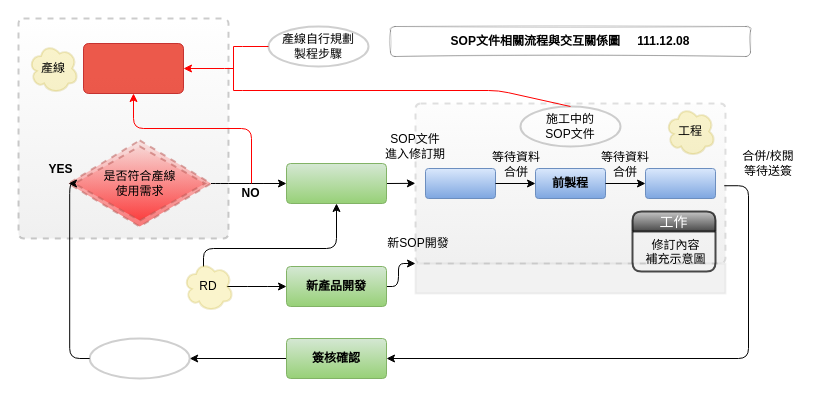
This 815x396 diagram has some shape labels left out. Each missing label, with the centre of its shape:
SOP修編小組: (570,278)
已發行的 SOP文件: (139,358)
後製程: (680,183)
產線 執行未受驗證的 製程步驟: (133,68)
設計變更: (336,183)
變壓器: (460,183)
